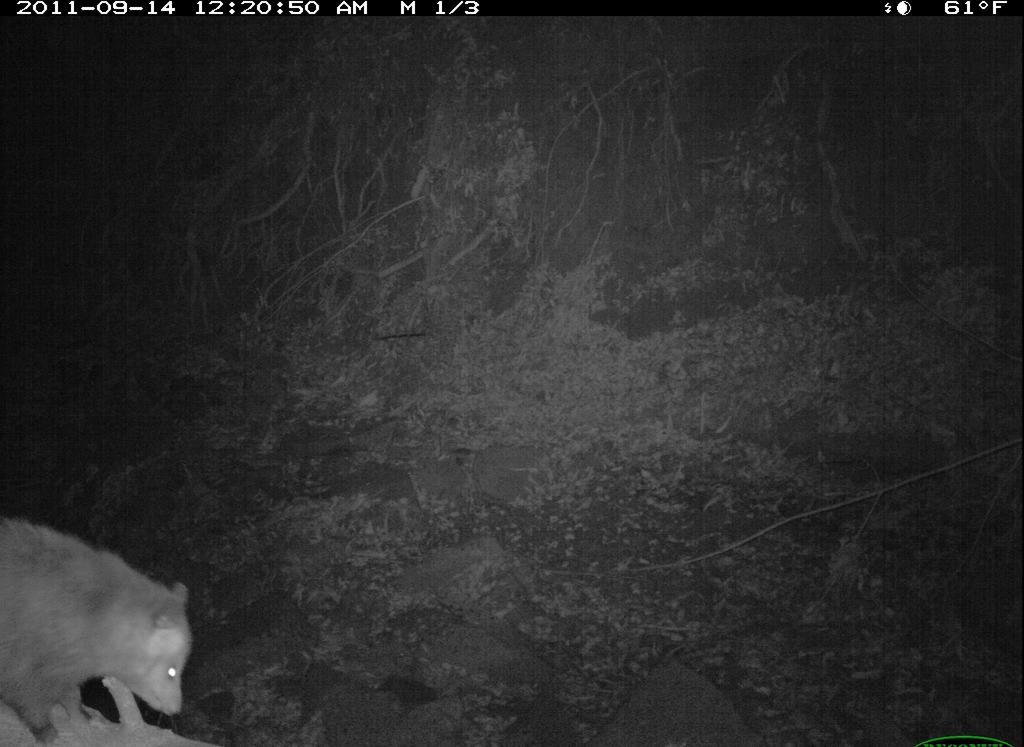opossum: (1, 513, 200, 747)
